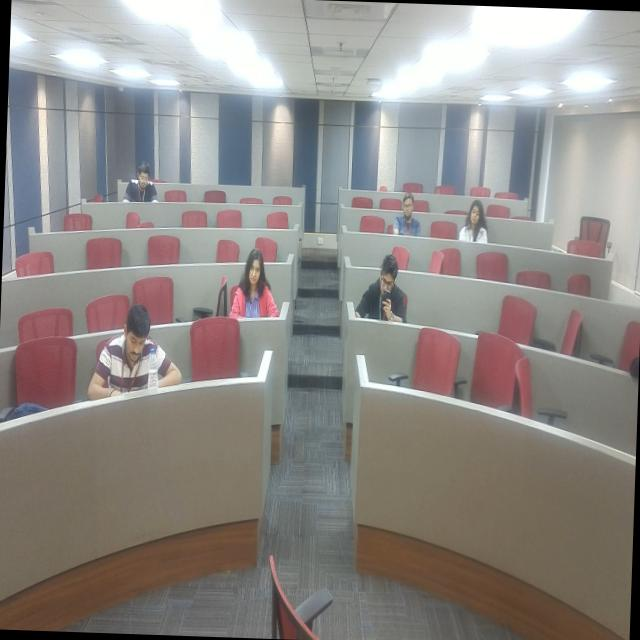cheating: (350, 249, 414, 341), (449, 189, 498, 248)
